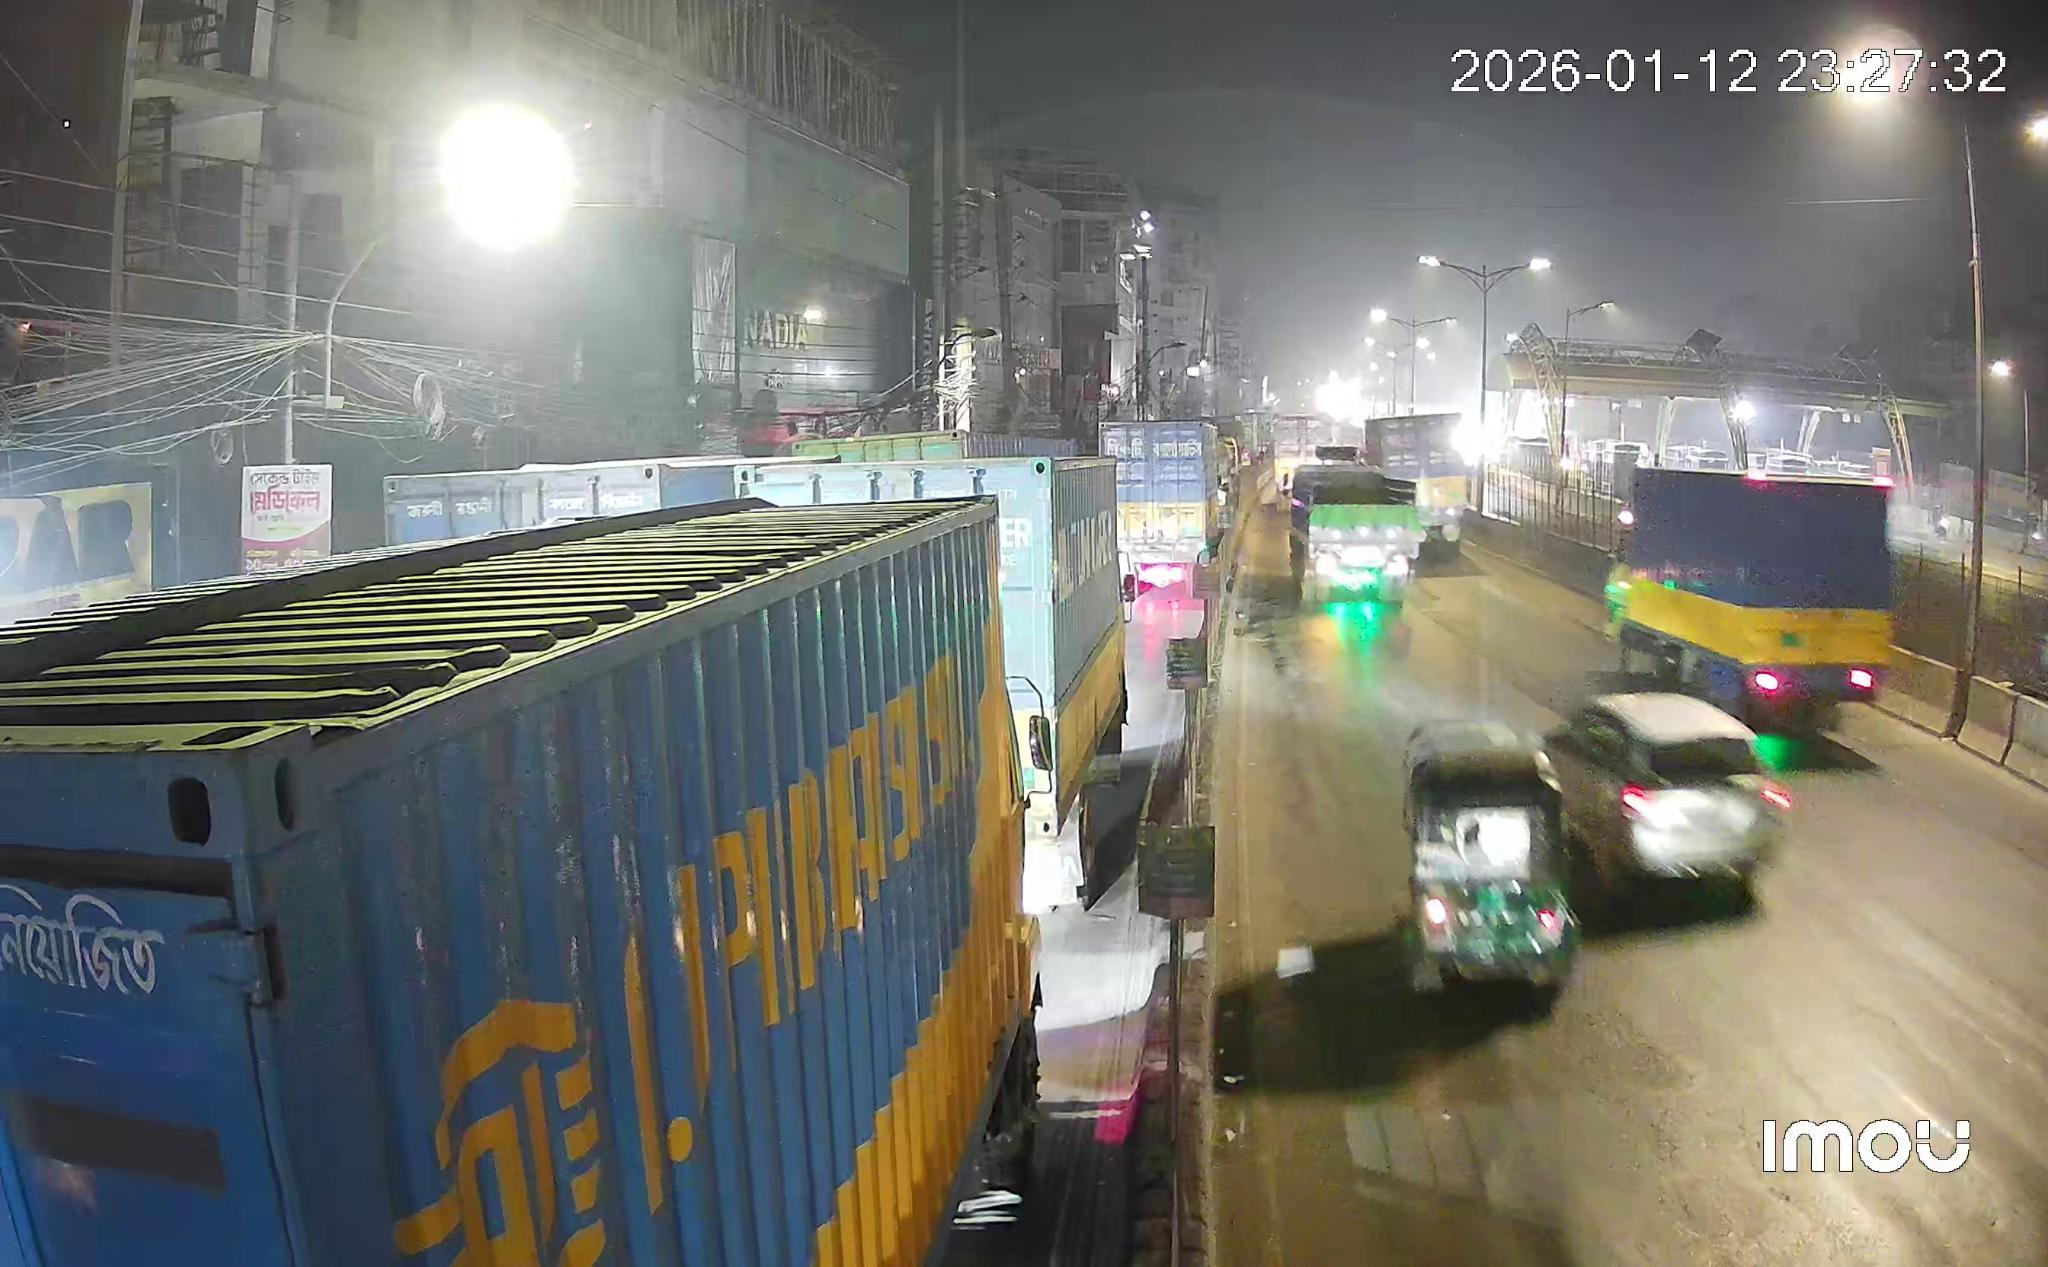CNG-Tempo: (1403, 722, 1577, 1001)
Private-Sedan Car: (1543, 691, 1793, 901)
Truck: (0, 498, 1055, 1267), (755, 456, 1137, 913), (1603, 469, 1893, 734), (1102, 421, 1227, 600), (1286, 463, 1423, 606), (1365, 414, 1470, 552)
